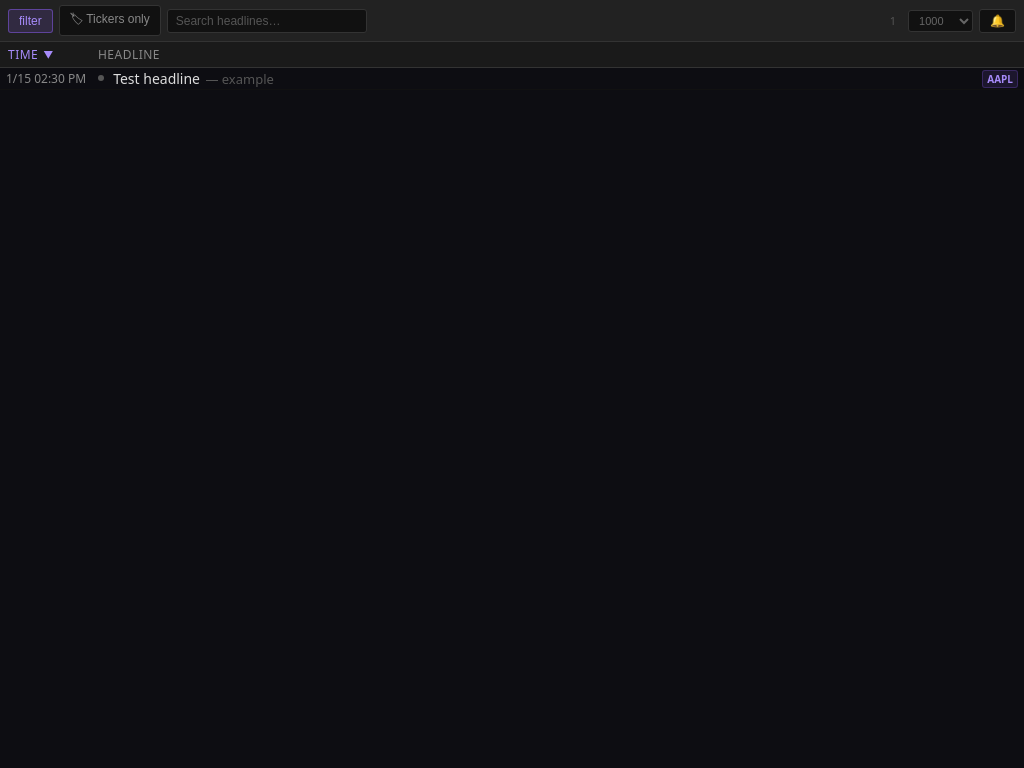
Scenario: modal open and close › with non-Escape key expect modal stays open
The width and height of the screenshot is (1024, 768).
Click the element showing "1/15 02:30 PM Test headline — example AAPL" at (512, 79), box [0, 68, 1023, 90]
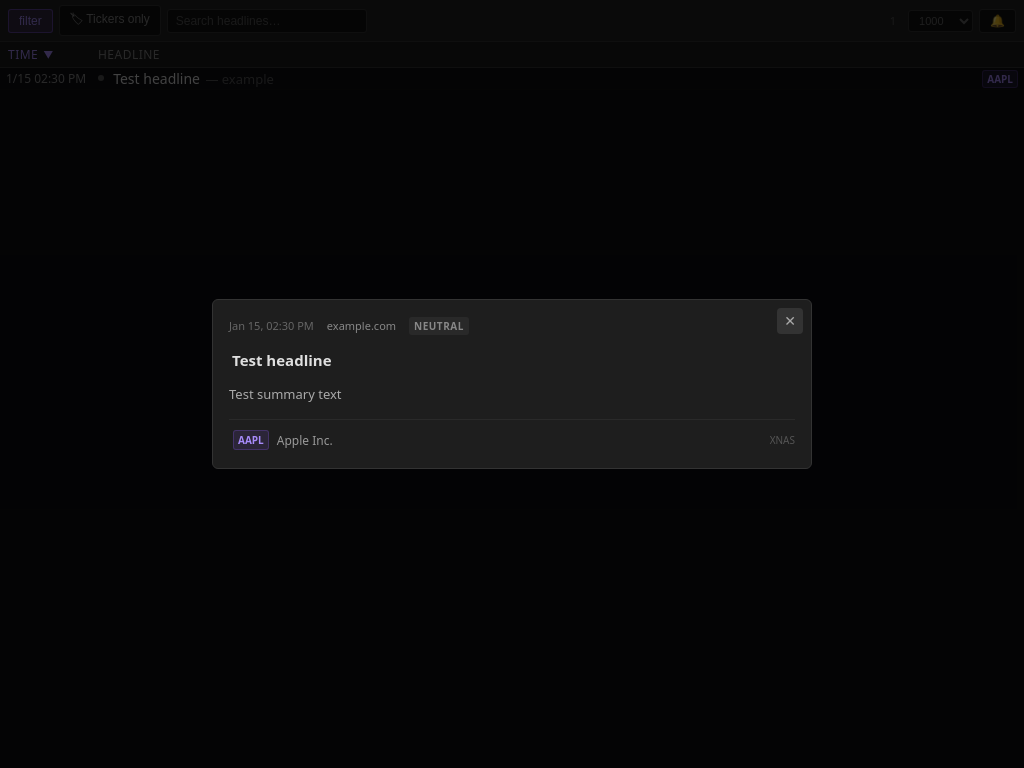
Now the element with class "modal-card" is shown, box [212, 299, 812, 469]
